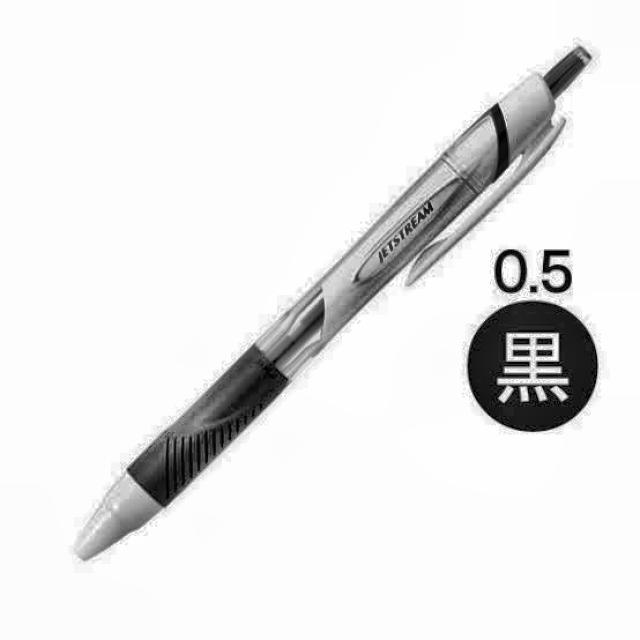Pen: (74, 17, 590, 589)
